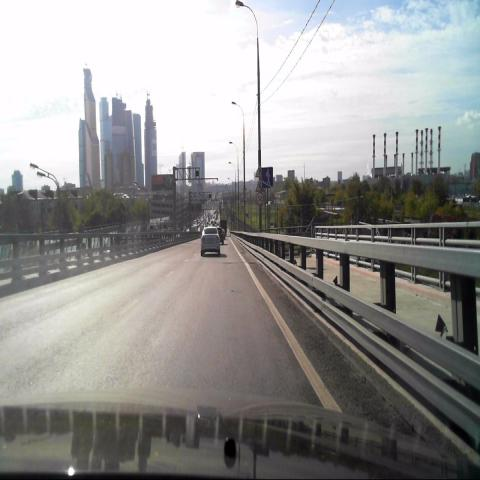6_6: (261, 166, 273, 187)
